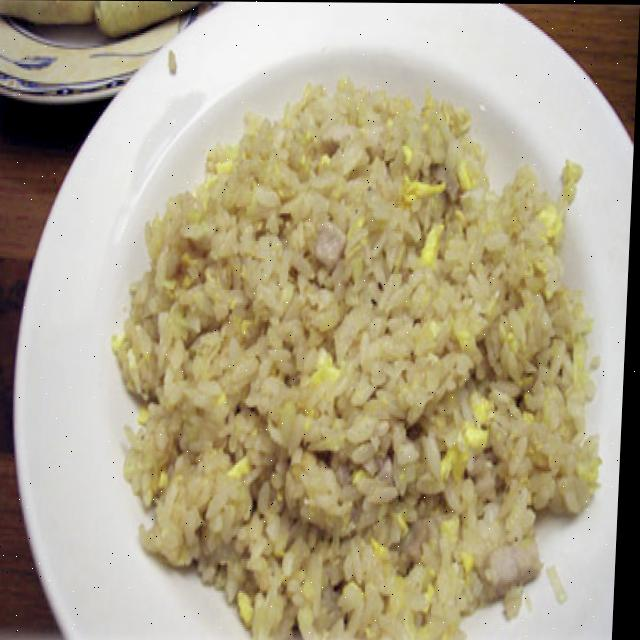米饭主食: (123, 64, 635, 635)
